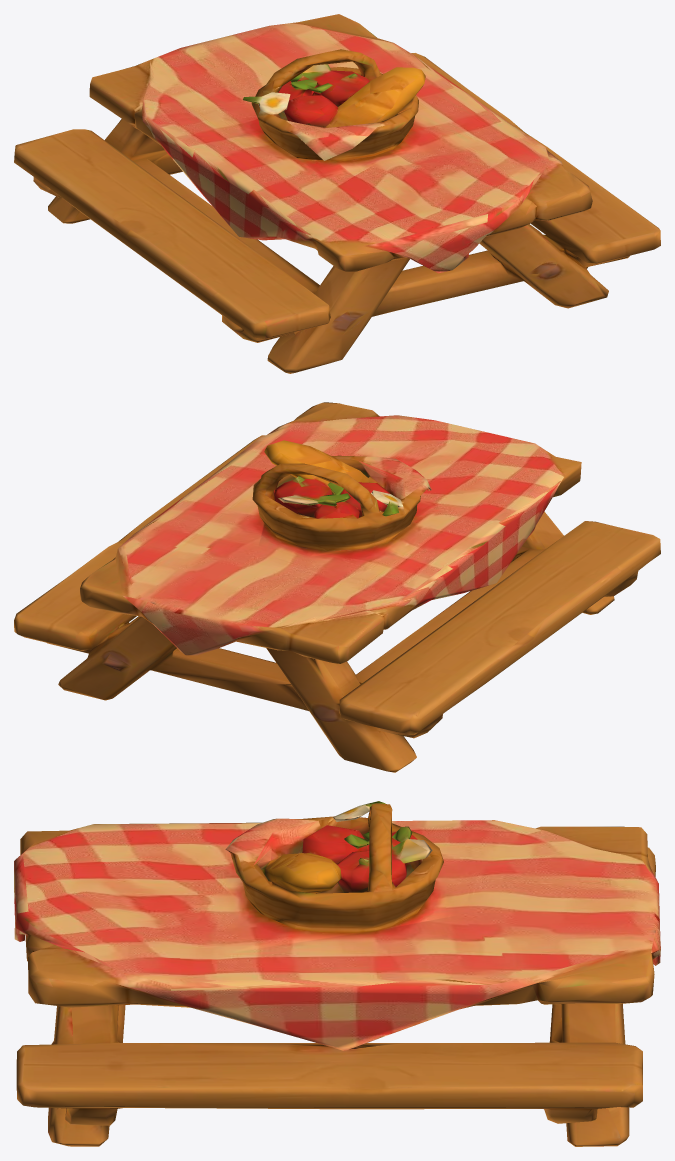
3 renders of one model, top to bottom at view 1: azimuth 30°, elevation 25°; view 2: azimuth 150°, elevation 25°; view 3: azimuth 270°, elevation 25°, orthographic. The views are drawn at different scales.
Parts seen in each view (by area): view 1: picnic-table; view 2: picnic-table; view 3: picnic-table.
Part boxes in pixels (box(x1,y1,x2,y2)): picnic-table: box(14, 14, 660, 373); picnic-table: box(14, 402, 660, 772); picnic-table: box(14, 801, 660, 1146).
Size of the model in its own units: 1.81 by 0.8018 by 2.
1 material, 1 textured.
